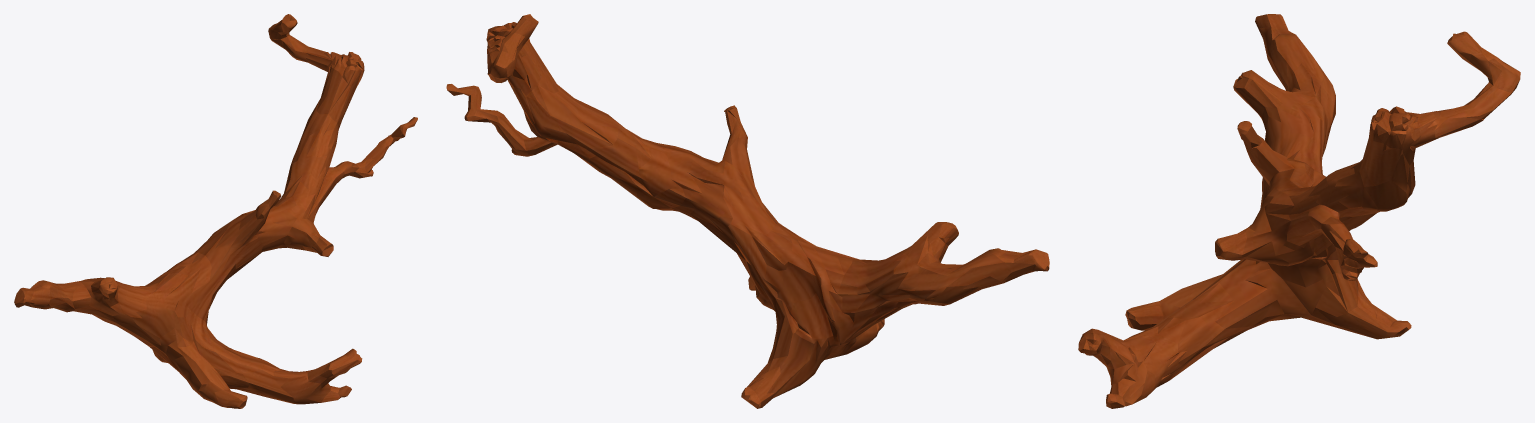
The model's file is prop-driftwood.glb.
3 renders of one model, left to right at view 1: azimuth 30°, elevation 25°; view 2: azimuth 150°, elevation 25°; view 3: azimuth 270°, elevation 25°, orthographic. The views are drawn at different scales.
Bounding box in the file's own units: 0.4022 × 0.25 × 0.2372.
1 material, 1 textured.
